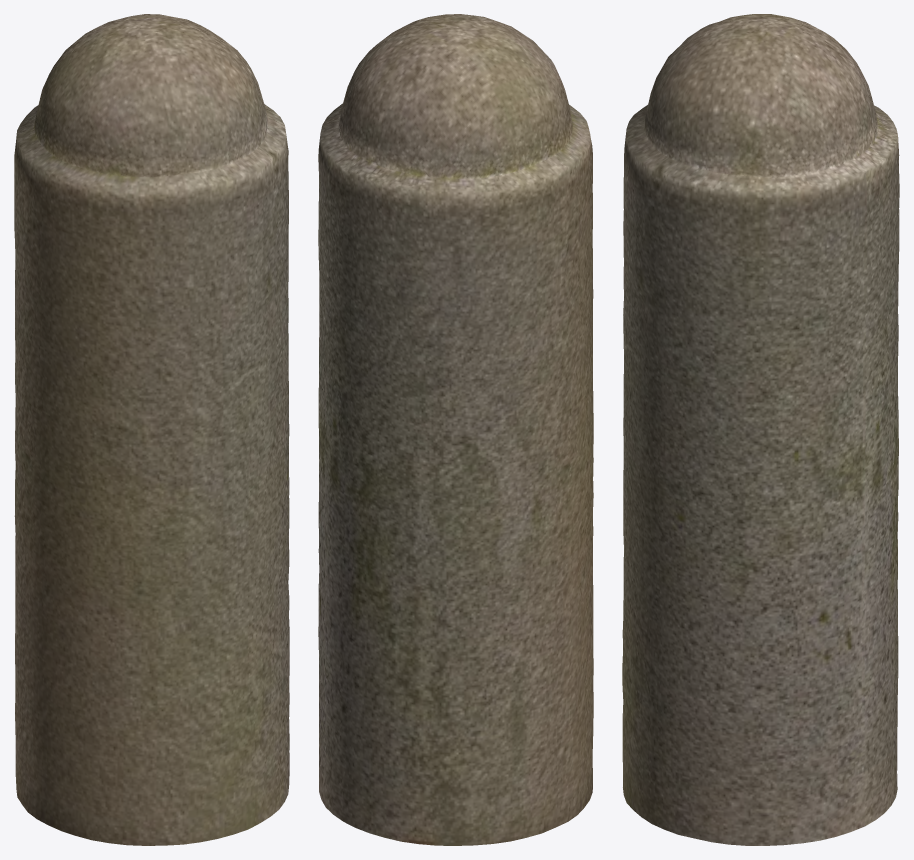
File: bollard-concrete.glb
3 views of the same model, side by side, from view 1: azimuth 30°, elevation 25°; view 2: azimuth 150°, elevation 25°; view 3: azimuth 270°, elevation 25° (orthographic).
Parts seen in each view (by area): view 1: Object_2; view 2: Object_2; view 3: Object_2.
Boxes of the visible parts, x1,y1,x2,y2 form: Object_2: [14, 14, 289, 845]; Object_2: [318, 14, 593, 845]; Object_2: [622, 14, 899, 845].
Bounding box in the file's own units: 0.2948 × 0.9 × 0.2968.
1 material, 1 textured.
